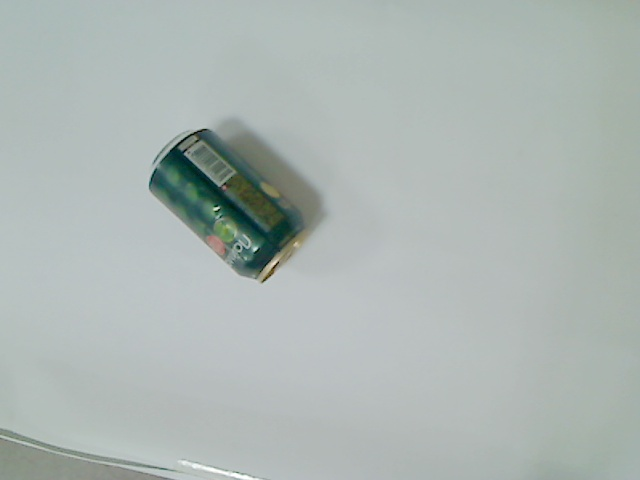can: (145, 125, 311, 285)
